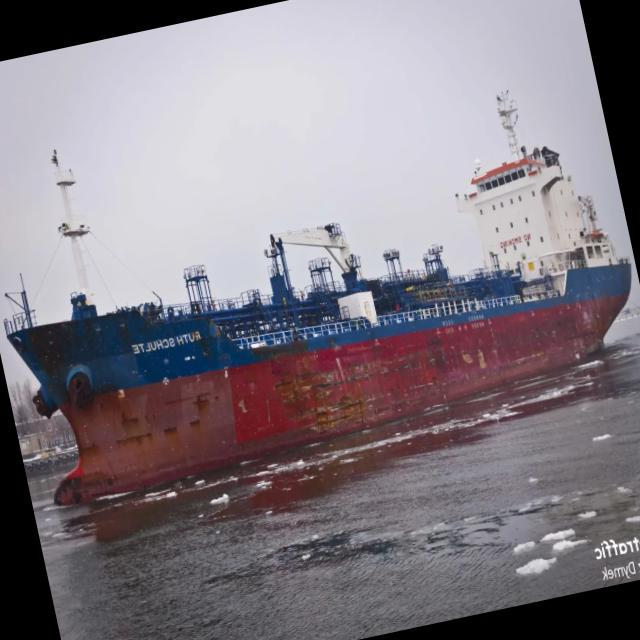Tanker: (5, 93, 631, 504)
